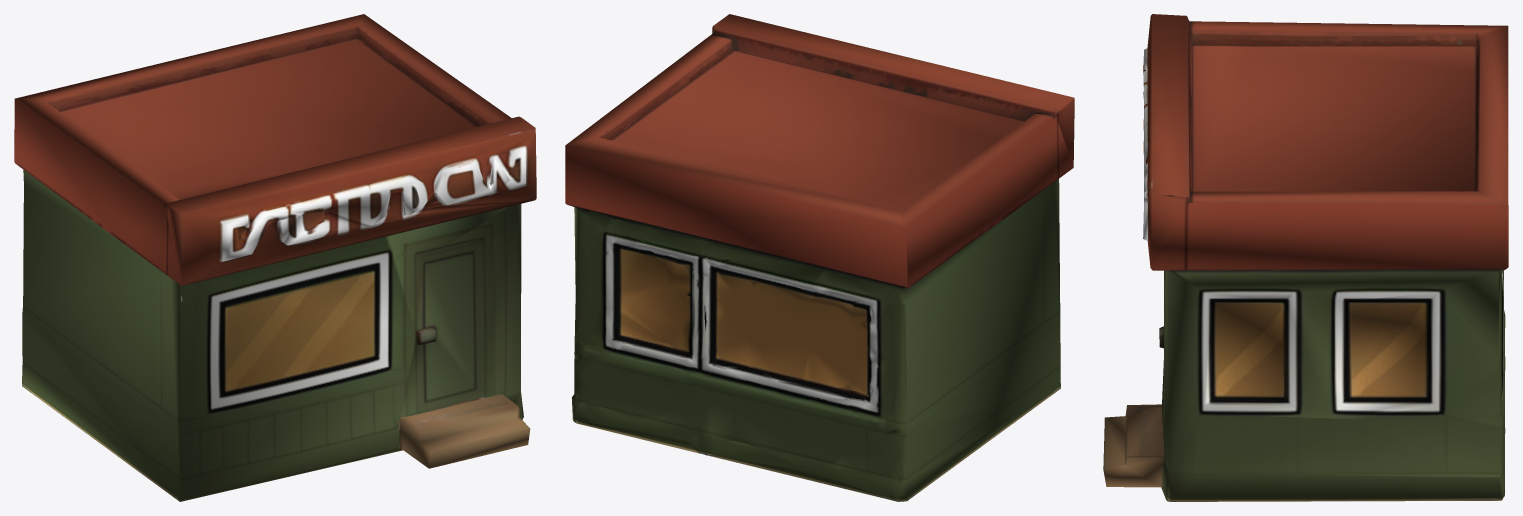
Rendered from kiosk2.fbx.
3 renders of one model, left to right at view 1: azimuth 30°, elevation 25°; view 2: azimuth 150°, elevation 25°; view 3: azimuth 270°, elevation 25°, orthographic. The views are drawn at different scales.
Visible parts, largest first — view 1: tmpt414hm5u.ply; view 2: tmpt414hm5u.ply; view 3: tmpt414hm5u.ply.
Part boxes in pixels (x1,y1,x2,y2): tmpt414hm5u.ply: [14, 14, 536, 501]; tmpt414hm5u.ply: [565, 14, 1074, 501]; tmpt414hm5u.ply: [1103, 14, 1508, 501].
Size of the model in its own units: 197 by 157 by 186.
Materials: 1 (1 with a texture image).
